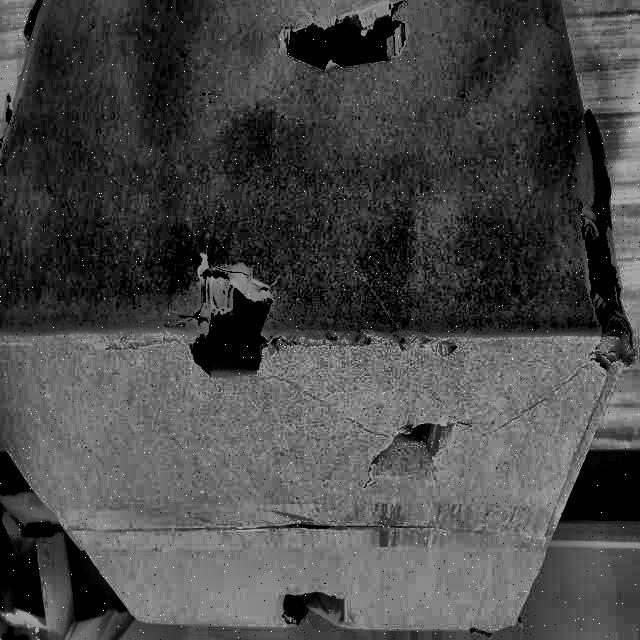box: (1, 1, 640, 638)
hole: (177, 254, 274, 380), (573, 136, 627, 335), (281, 3, 401, 84), (273, 581, 355, 629), (397, 412, 450, 462)
